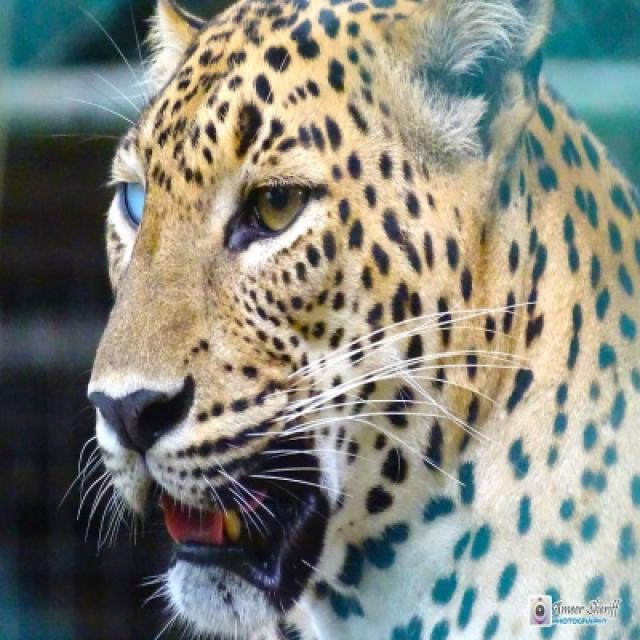Cheetah: (77, 0, 638, 638)
